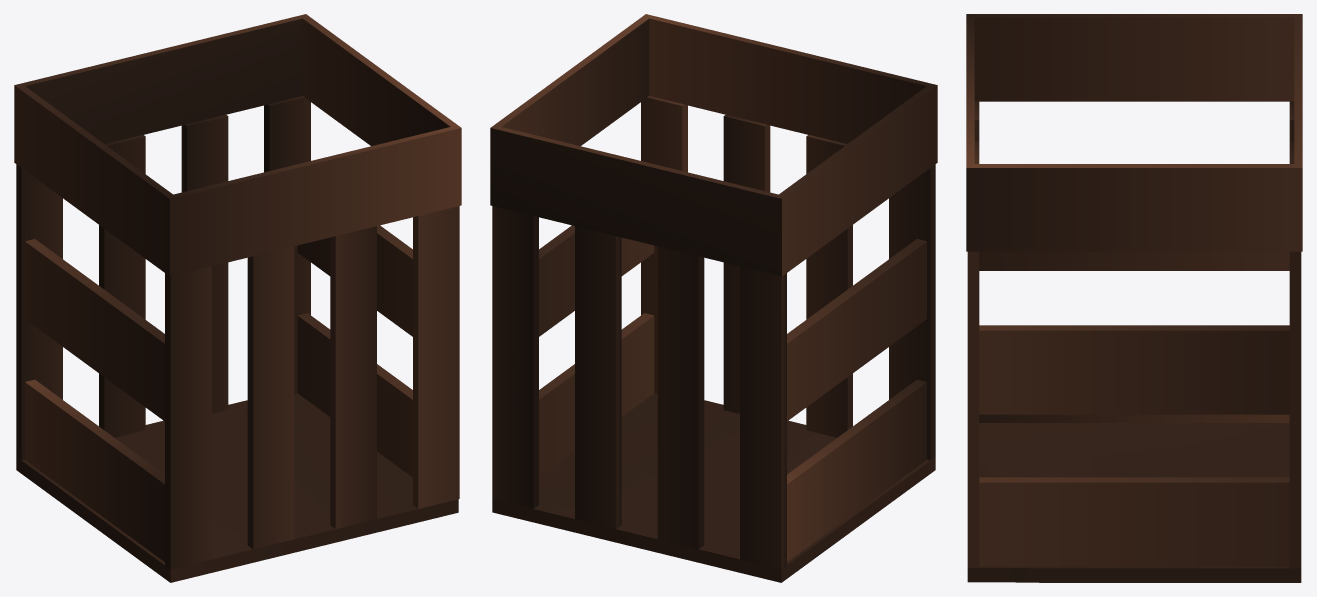
The model's file is Tall Dark Crate No Lid.fbx.
3 views of the same model, side by side, from view 1: azimuth 30°, elevation 25°; view 2: azimuth 150°, elevation 25°; view 3: azimuth 270°, elevation 25° (orthographic). The views are drawn at different scales.
Parts seen in each view (by area): view 1: Tall Dark Crate No Lid; view 2: Tall Dark Crate No Lid; view 3: Tall Dark Crate No Lid.
Part boxes in pixels (<box>): Tall Dark Crate No Lid: <box>14,14,461,582</box>; Tall Dark Crate No Lid: <box>490,14,937,582</box>; Tall Dark Crate No Lid: <box>966,14,1302,582</box>.
Size of the model in its own units: 284 by 208 by 225.
1 material, 1 textured.
